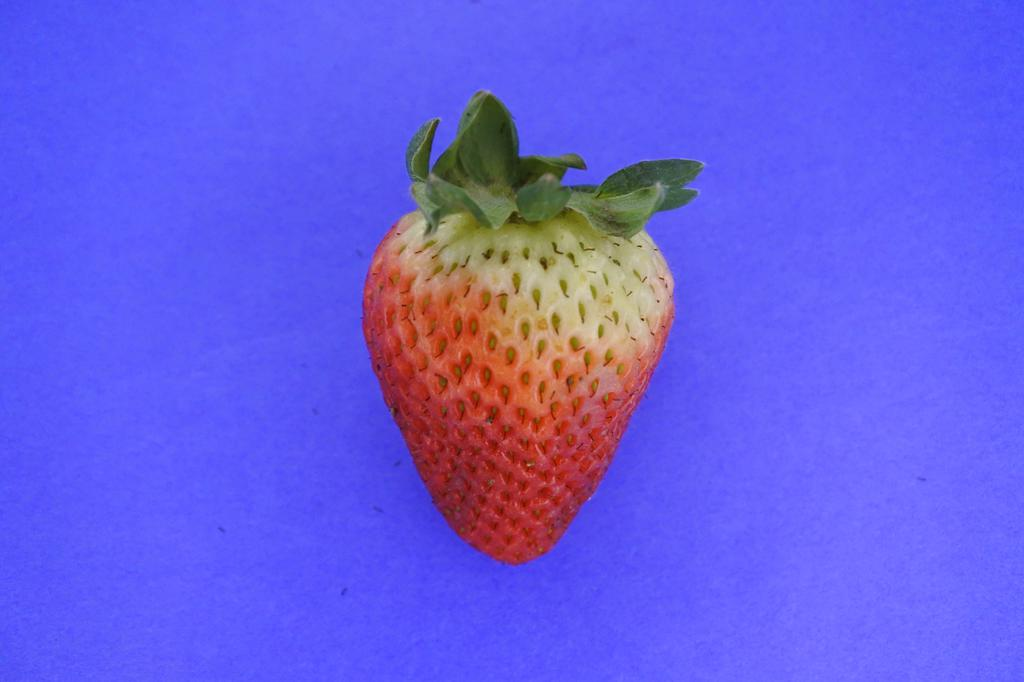red strawberry: (360, 92, 703, 568)
